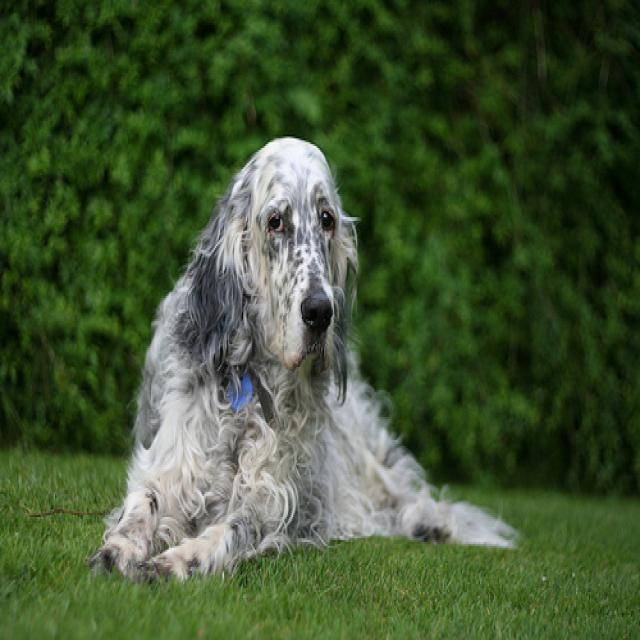dog-english_setter: (84, 123, 527, 594)
